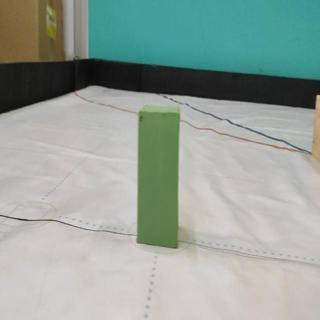greenbox: (137, 105, 180, 250)
